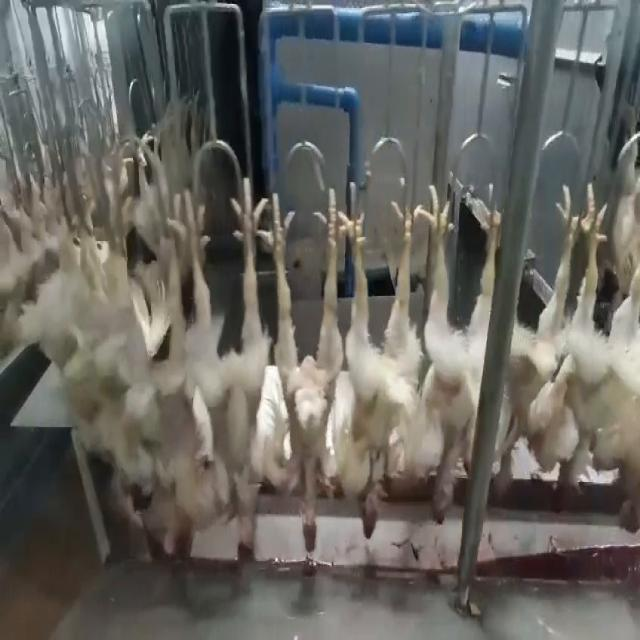chicken: (411, 183, 511, 525), (332, 191, 428, 545), (192, 167, 274, 559), (264, 185, 345, 566), (526, 181, 606, 500), (127, 185, 182, 562), (597, 186, 640, 534)
